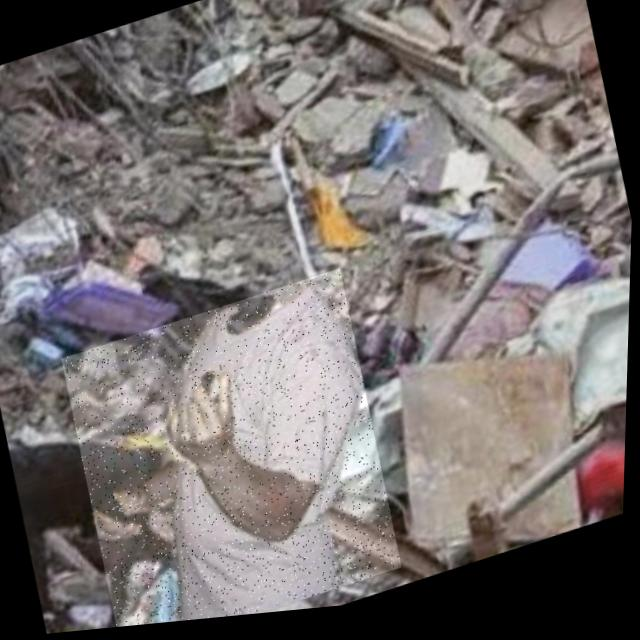Person in Rubble: (57, 269, 412, 635)
